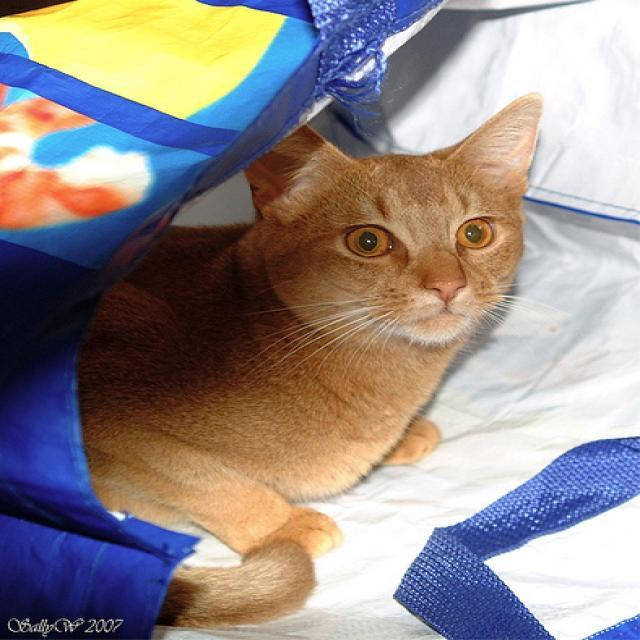Abyssinian: (244, 90, 543, 341)
